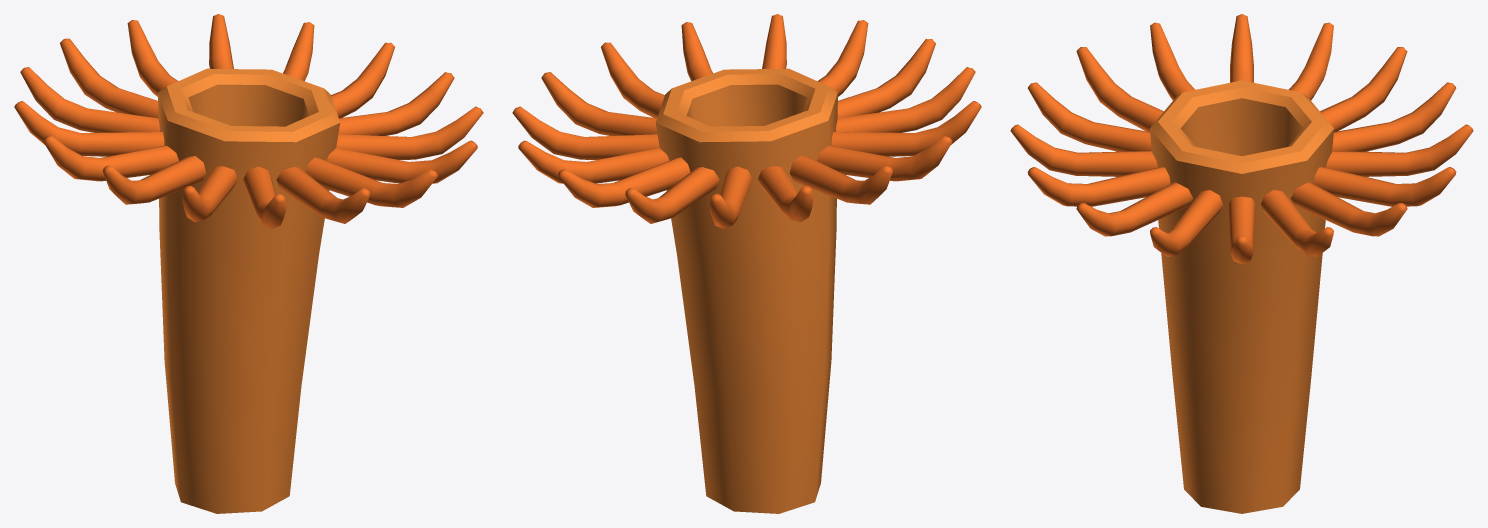
The model's file is Sea_plant_4_2.fbx.
The picture shows the model from 3 angles, left to right: view 1: azimuth 30°, elevation 25°; view 2: azimuth 150°, elevation 25°; view 3: azimuth 270°, elevation 25°; orthographic projection. The views are drawn at different scales.
Visible parts, largest first — view 1: Sea_plant_4_2; view 2: Sea_plant_4_2; view 3: Sea_plant_4_2.
Boxes of the visible parts, x1,y1,x2,y2 form: Sea_plant_4_2: (14, 14, 483, 513); Sea_plant_4_2: (512, 14, 981, 513); Sea_plant_4_2: (1010, 14, 1473, 513).
Size of the model in its own units: 0.81 by 0.7511 by 0.8126.
